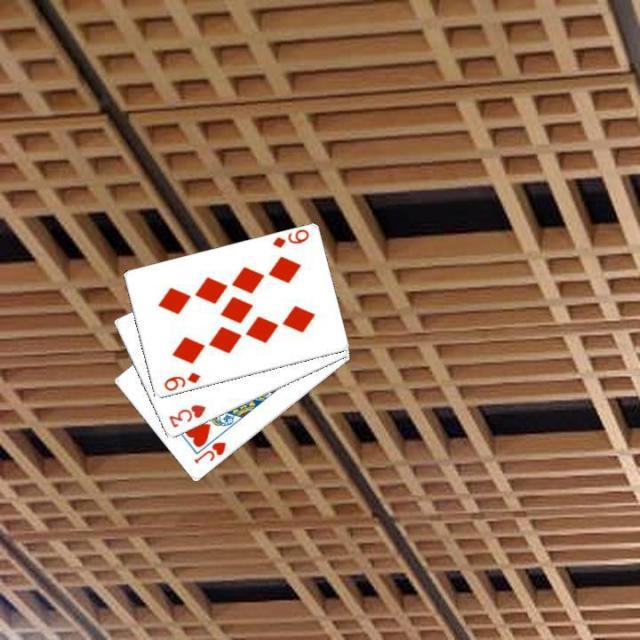3H: (165, 401, 207, 431)
9D: (160, 368, 202, 393), (269, 227, 311, 251)
JH: (190, 438, 228, 466)
